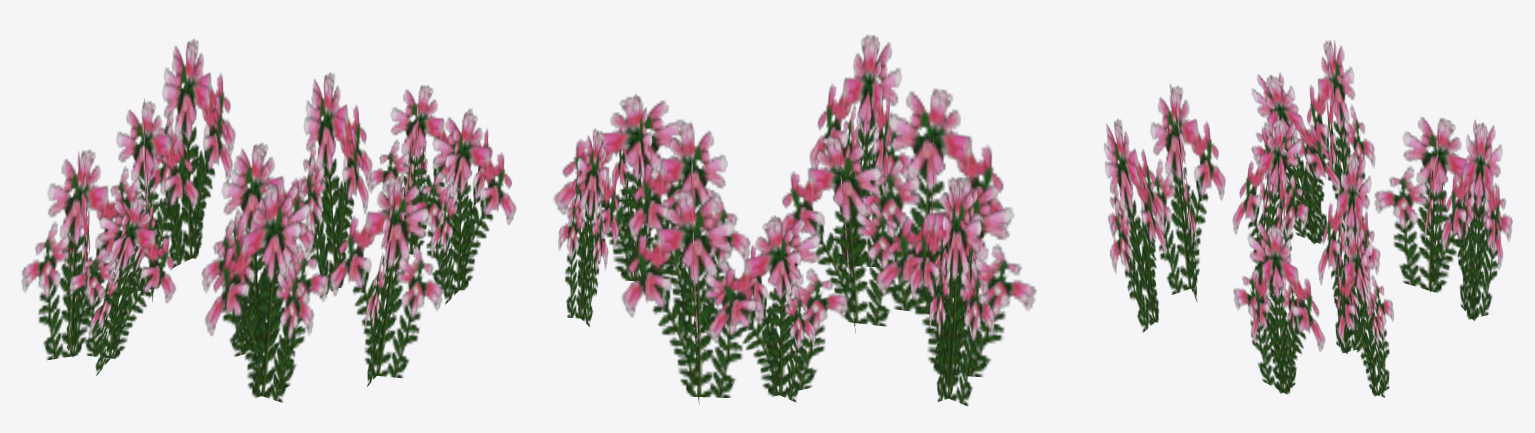
3 views of the same model, side by side, from view 1: azimuth 30°, elevation 25°; view 2: azimuth 150°, elevation 25°; view 3: azimuth 270°, elevation 25° (orthographic). The views are drawn at different scales.
Parts seen in each view (by area): view 1: um_t1_pl023_model_t1_pl023_modelShape; view 2: um_t1_pl023_model_t1_pl023_modelShape; view 3: um_t1_pl023_model_t1_pl023_modelShape.
Boxes of the visible parts, box(x1,y1,x2,y2) form: um_t1_pl023_model_t1_pl023_modelShape: box(21, 39, 516, 402); um_t1_pl023_model_t1_pl023_modelShape: box(553, 35, 1036, 406); um_t1_pl023_model_t1_pl023_modelShape: box(1104, 40, 1512, 397).
Bounding box in the file's own units: 0.7334 × 0.3638 × 0.645.
Materials: 1 (1 with a texture image).
